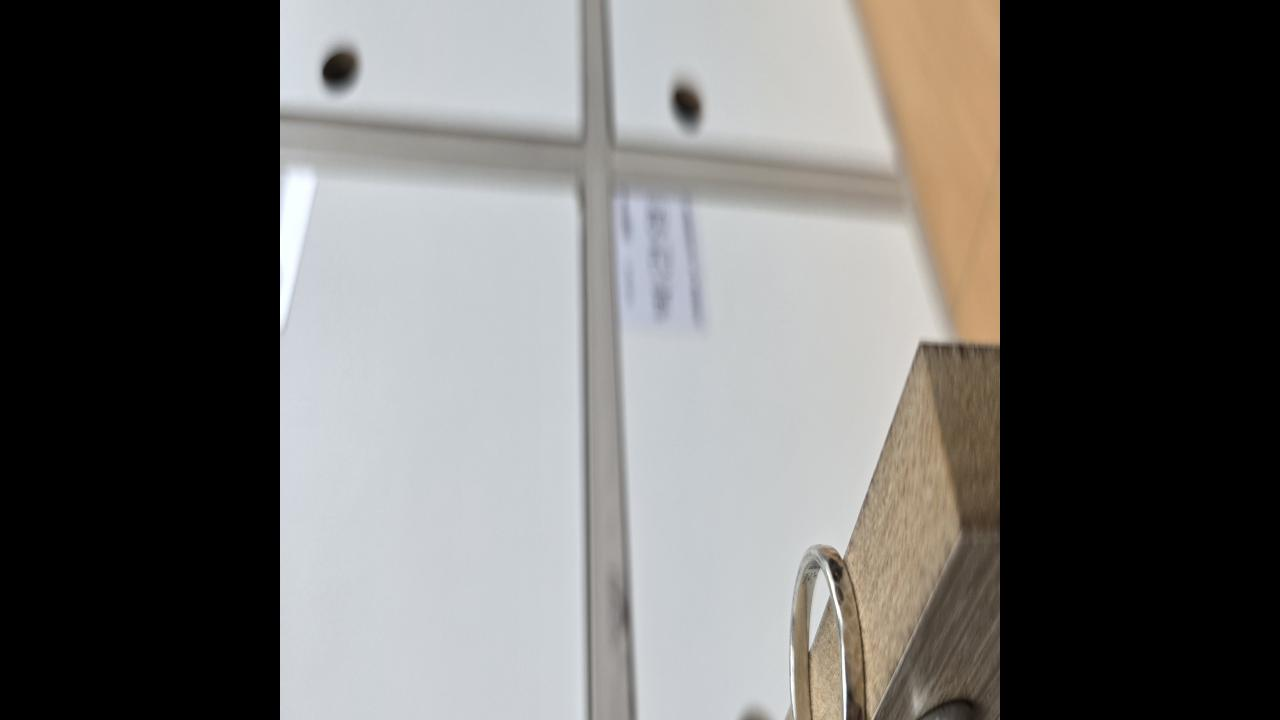ring: (789, 542, 867, 720)
